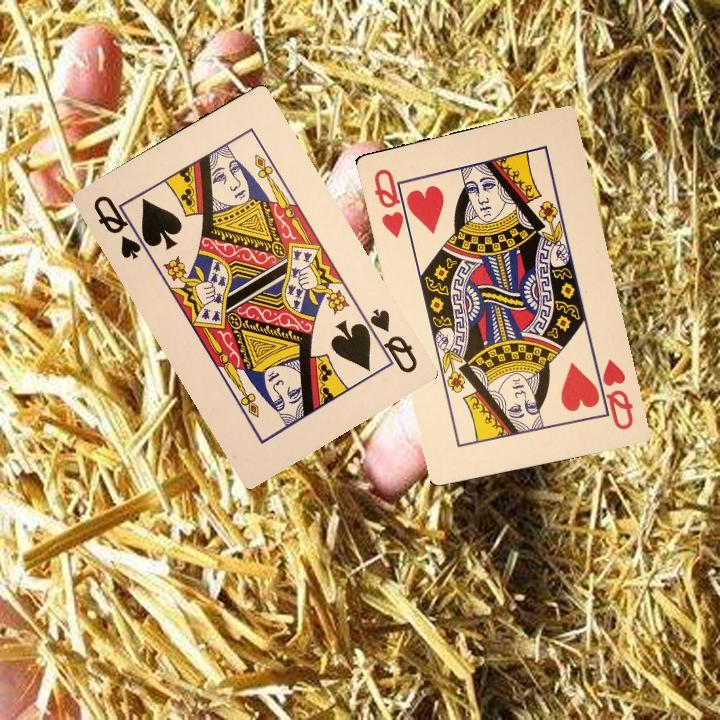Qh: (589, 355, 636, 433), (370, 164, 415, 240)
Qs: (89, 191, 152, 262), (358, 304, 420, 376)
